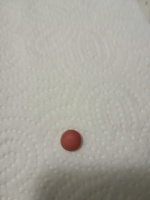Dolorex: (59, 128, 84, 153)
